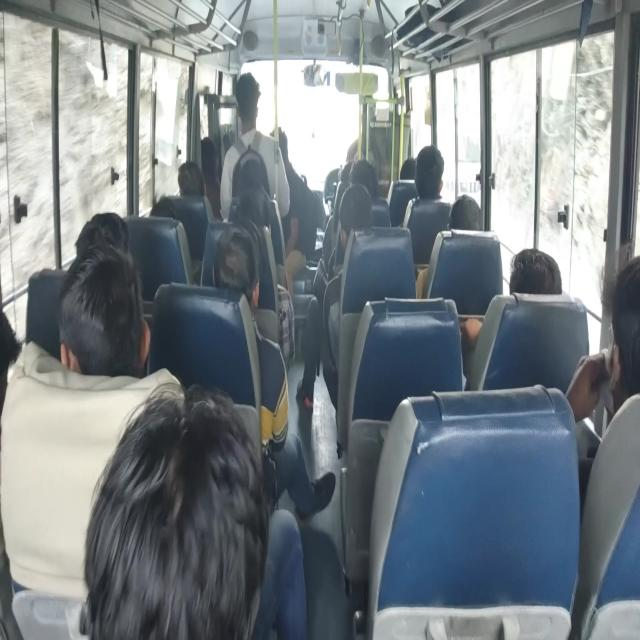person: (70, 246, 162, 389), (605, 269, 640, 556), (79, 194, 155, 266), (516, 239, 571, 326), (216, 234, 271, 308), (448, 184, 493, 247), (234, 79, 274, 145), (357, 166, 399, 210), (146, 187, 182, 230), (201, 132, 232, 180), (229, 188, 260, 233), (272, 120, 300, 164), (342, 203, 382, 232), (420, 148, 444, 196), (177, 156, 197, 202), (342, 155, 366, 191), (237, 178, 267, 205), (395, 157, 420, 184)
